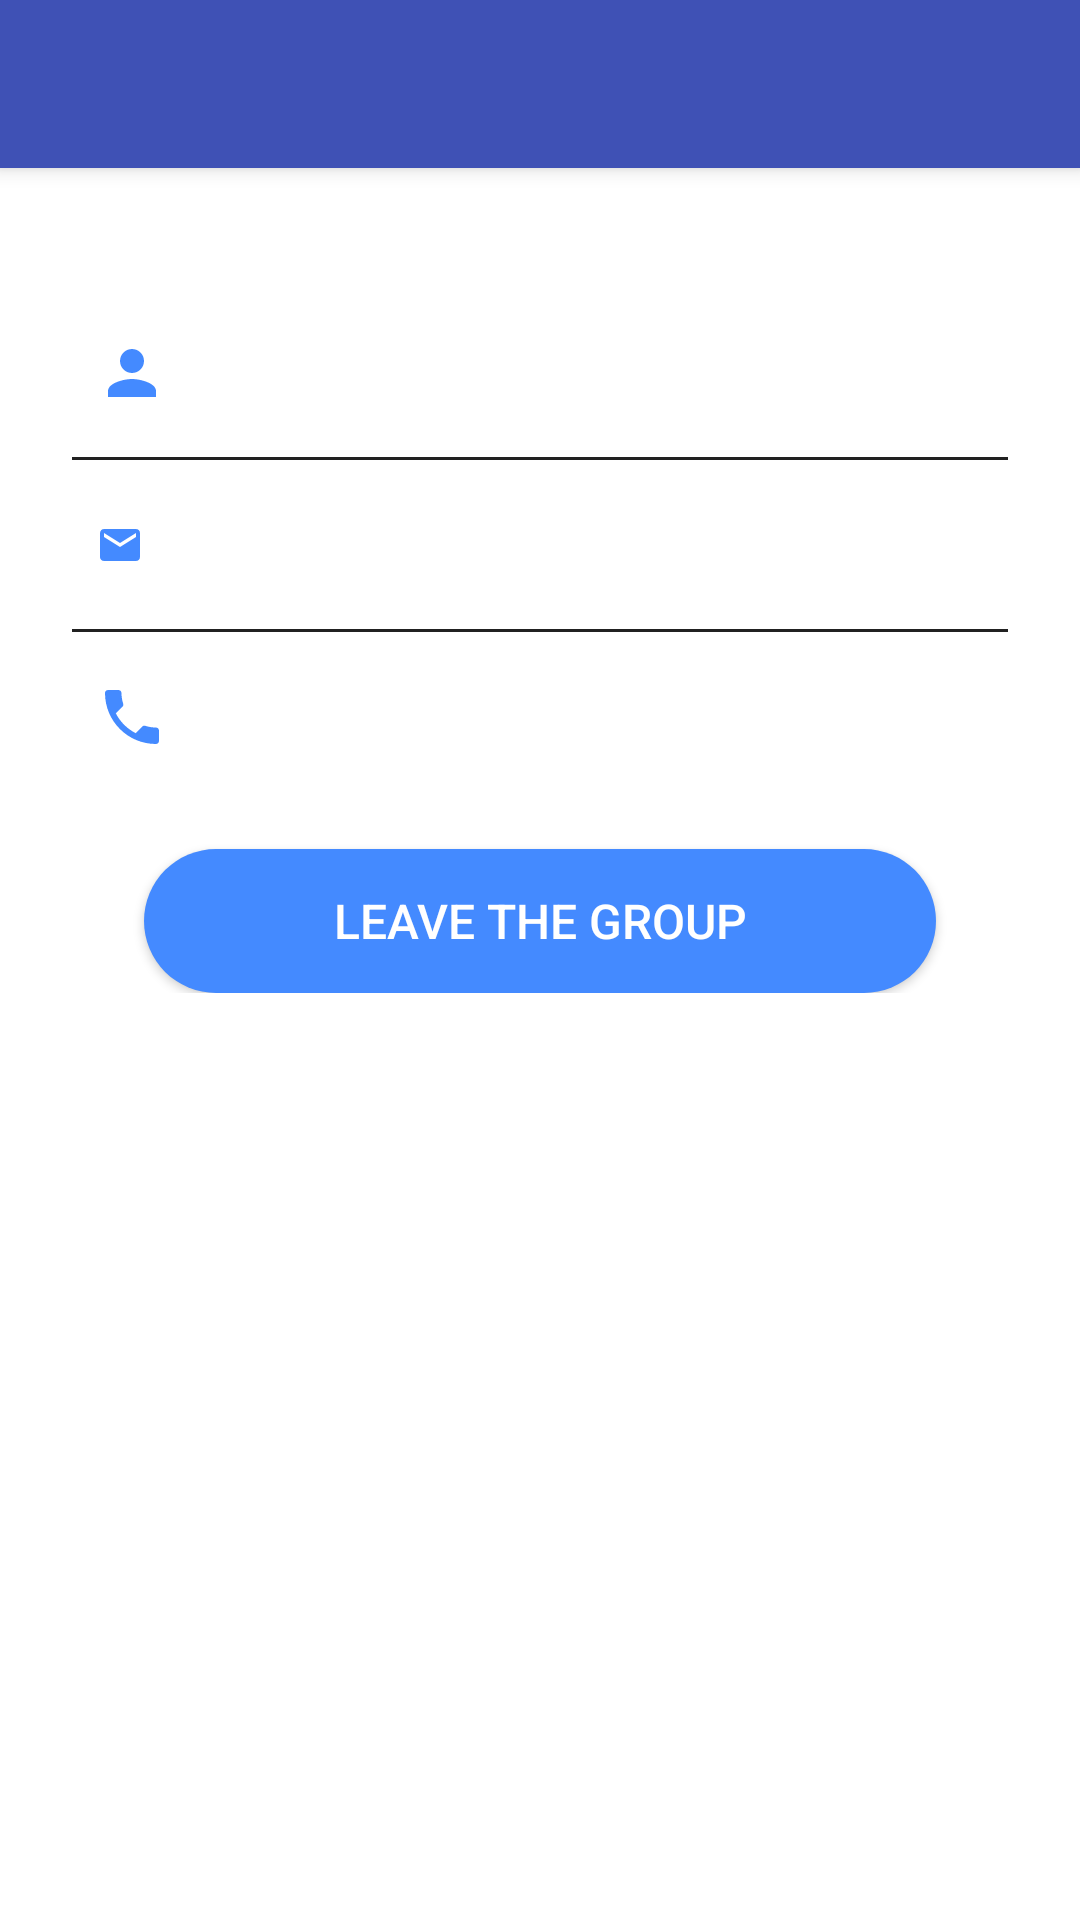

Screen size 1080px x 1920px. Icon name, then its box in pixels as [x1=x1, y1=y1, x2=x2, y2=y2]:
Mail image: [x1=100, y1=529, x2=140, y2=561]
Person image icon: [x1=108, y1=349, x2=156, y2=397]
Phone image: [x1=105, y1=690, x2=159, y2=744]
